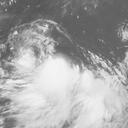cyclone: (11, 37, 58, 92)
